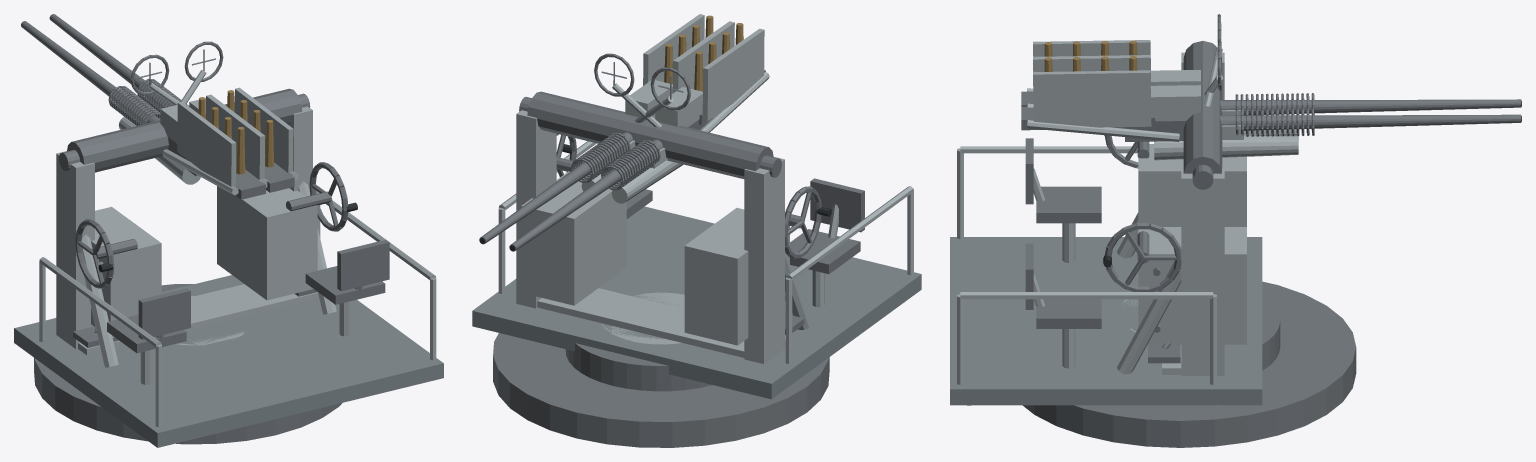
3 views of the same model, side by side, from view 1: azimuth 30°, elevation 25°; view 2: azimuth 150°, elevation 25°; view 3: azimuth 270°, elevation 25° (orthographic). The views are drawn at different scales.
Parts seen in each view (by area): view 1: component.yaw.mesh, component.left.recoil.mesh, component.right.recoil.mesh, component.base.mesh, component.left.elevation.mesh, component.right.elevation.mesh; view 2: component.yaw.mesh, component.base.mesh, component.left.recoil.mesh, component.right.recoil.mesh, component.left.elevation.mesh, component.right.elevation.mesh; view 3: component.yaw.mesh, component.base.mesh, component.right.recoil.mesh, component.left.recoil.mesh, component.right.elevation.mesh.
Boxes of the visible parts, x1,y1,x2,y2 form: component.yaw.mesh: [14, 88, 443, 447]; component.left.recoil.mesh: [21, 21, 268, 199]; component.right.recoil.mesh: [49, 14, 298, 192]; component.base.mesh: [34, 284, 341, 444]; component.left.elevation.mesh: [144, 41, 223, 122]; component.right.elevation.mesh: [130, 54, 179, 105]; component.yaw.mesh: [472, 91, 921, 399]; component.base.mesh: [493, 333, 829, 447]; component.left.recoil.mesh: [509, 21, 769, 251]; component.right.recoil.mesh: [479, 14, 729, 244]; component.left.elevation.mesh: [594, 53, 667, 168]; component.right.elevation.mesh: [622, 67, 690, 149]; component.yaw.mesh: [950, 41, 1280, 405]; component.base.mesh: [1023, 281, 1356, 447]; component.right.recoil.mesh: [1021, 55, 1521, 160]; component.left.recoil.mesh: [1021, 40, 1521, 135]; component.right.elevation.mesh: [1204, 14, 1243, 139].
Bounding box in the file's own units: 2.42 × 2.54 × 3.84.
